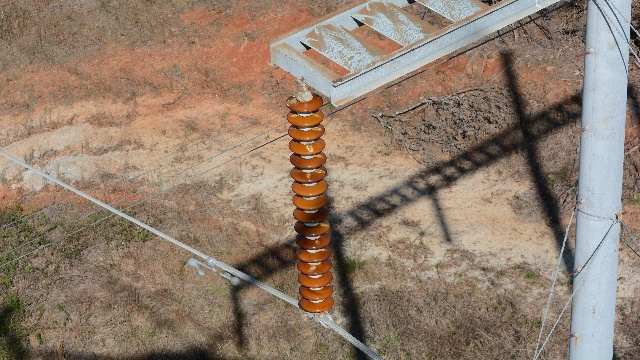insulator_unspecified: (285, 92, 334, 313)
pollution_flashover_local: (286, 96, 300, 106), (318, 222, 332, 229), (308, 264, 317, 272), (314, 168, 325, 174), (306, 143, 313, 152), (312, 111, 320, 118), (305, 173, 313, 179), (316, 153, 324, 159), (321, 247, 330, 252), (314, 238, 320, 245), (291, 114, 299, 119), (314, 126, 320, 131)
